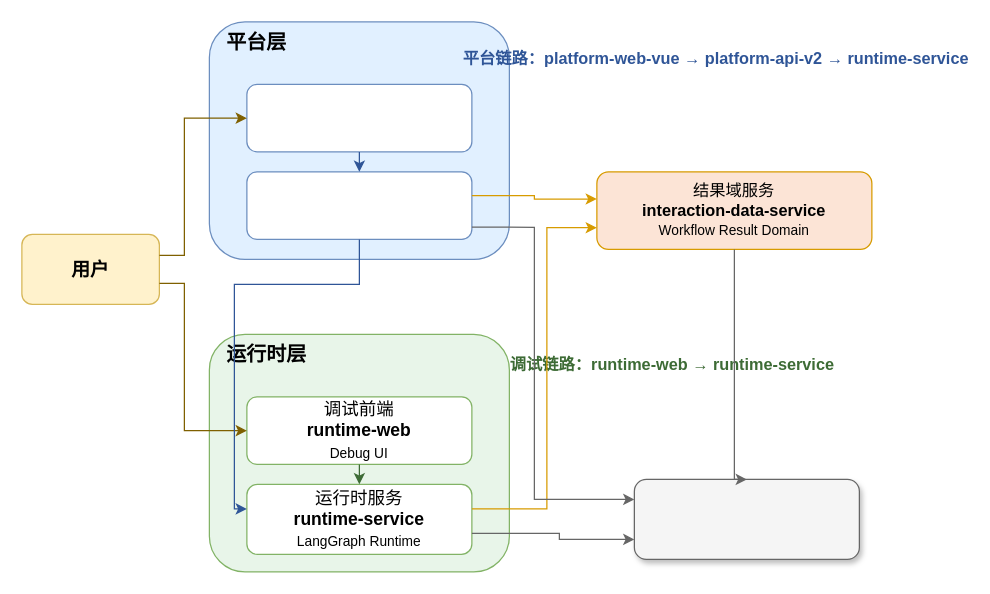
Image size: 990x594. Some labels were removed from this diagram. The shapes that lost their labels are listed below. From the top down, each one's centre as x and y in pixels, then its label:
pixel 359 117: 平台前端 platform-web-vue Vue 3 / Vite
pixel 359 205: 平台后端 platform-api-v2 Control Plane API
pixel 747 520: 共享数据库 PostgreSQL
